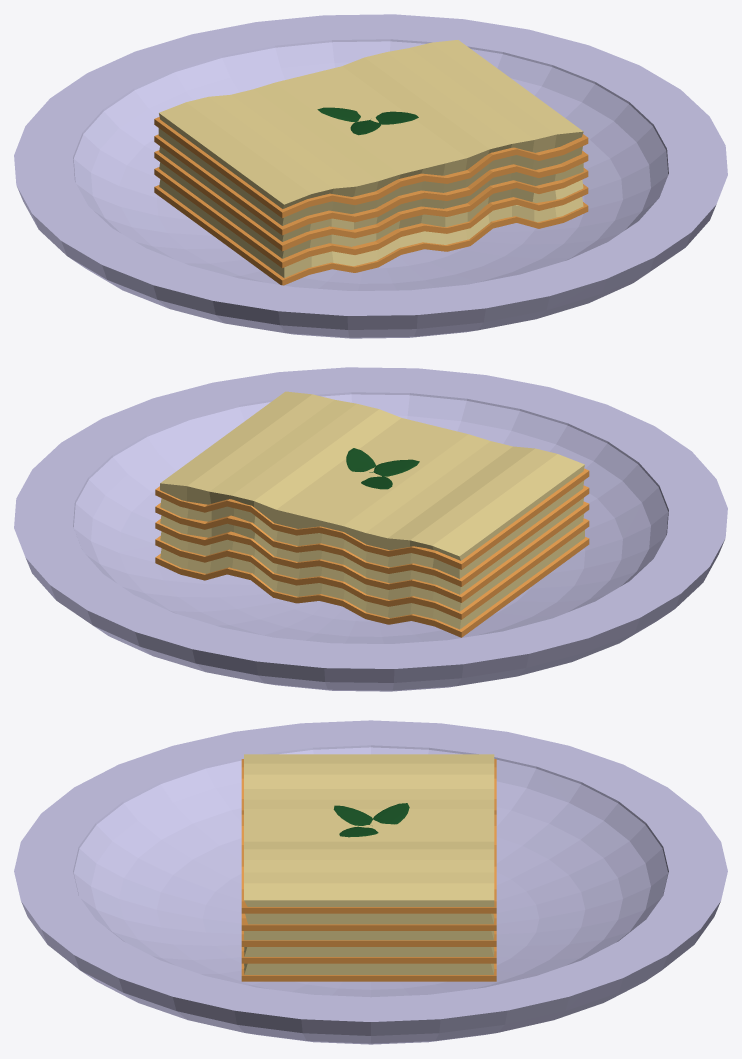
Rendered from Lasanha.fbx.
The picture shows the model from 3 angles, top to bottom: view 1: azimuth 30°, elevation 25°; view 2: azimuth 150°, elevation 25°; view 3: azimuth 270°, elevation 25°; orthographic projection.
Visible parts, largest first — view 1: MacBowlBlue, Cube.012, Cube, Cube.006, Cube.004, Cube.011, Cube.002, Cube.003, Cube.007, Cube.001, Cube.005; view 2: MacBowlBlue, Cube.012, Cube, Cube.007, Cube.003, Cube.004, Cube.006, Cube.011, Cube.002, Cube.001, Cube.005, Cube.009 (+1 smaller); view 3: MacBowlBlue, Cube.012, Cube, Cube.007, Cube.011, Cube.003, Cube.005, Cube.006, Cube.001, Cube.002, Cube.004, Cube.010.
Part boxes in pixels (left/top/right/bottom): MacBowlBlue: left=14, top=14, right=727, bottom=338; Cube.012: left=159, top=40, right=583, bottom=208; Cube: left=159, top=179, right=583, bottom=277; Cube.006: left=154, top=134, right=588, bottom=235; Cube.004: left=154, top=150, right=588, bottom=251; Cube.011: left=154, top=117, right=588, bottom=218; Cube.002: left=154, top=167, right=588, bottom=268; Cube.003: left=159, top=162, right=583, bottom=258; Cube.007: left=158, top=128, right=582, bottom=225; Cube.001: left=154, top=185, right=588, bottom=285; Cube.005: left=159, top=146, right=583, bottom=241; MacBowlBlue: left=14, top=367, right=727, bottom=691; Cube.012: left=160, top=391, right=584, bottom=560; Cube: left=160, top=530, right=584, bottom=629; Cube.007: left=160, top=480, right=584, bottom=578; Cube.003: left=160, top=513, right=584, bottom=611; Cube.004: left=155, top=501, right=589, bottom=602; Cube.006: left=155, top=485, right=589, bottom=586; Cube.011: left=155, top=468, right=589, bottom=569; Cube.002: left=155, top=518, right=589, bottom=619; Cube.001: left=155, top=537, right=589, bottom=637; Cube.005: left=160, top=498, right=583, bottom=594; Cube.009: left=369, top=459, right=419, bottom=476; MacBowlBlue: left=14, top=720, right=727, bottom=1044; Cube.012: left=244, top=754, right=494, bottom=906; Cube: left=244, top=963, right=494, bottom=974; Cube.007: left=245, top=913, right=494, bottom=924; Cube.011: left=241, top=759, right=496, bottom=913; Cube.003: left=244, top=947, right=494, bottom=956; Cube.005: left=244, top=931, right=494, bottom=940; Cube.006: left=241, top=913, right=496, bottom=930; Cube.001: left=241, top=963, right=496, bottom=981; Cube.002: left=241, top=947, right=496, bottom=963; Cube.004: left=241, top=931, right=496, bottom=946; Cube.010: left=373, top=803, right=409, bottom=824.
Bounding box in the file's own units: 645 × 137 × 645.
